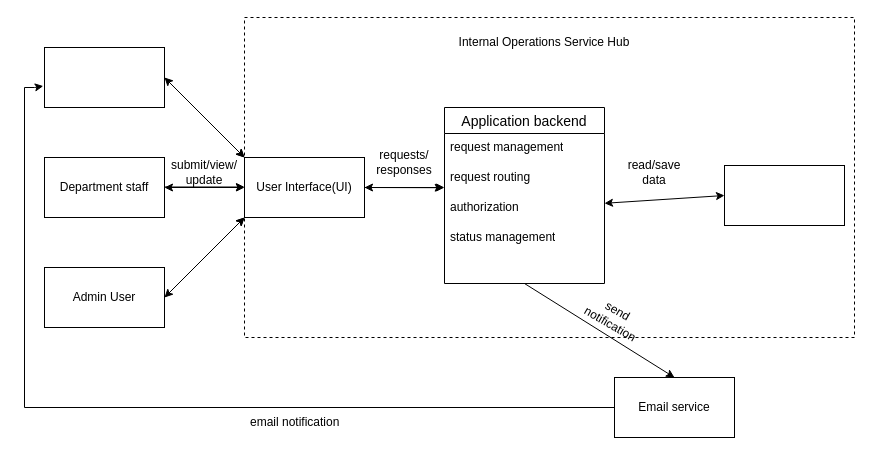
Image size: 872x455. Some labels were removed from this diagram. The shapes that lost their labels are listed below. From the top down, each one's centre as x and y in pixels, then its label:
At point 104,77: "Employee/User".
At point 784,195: "Database".
